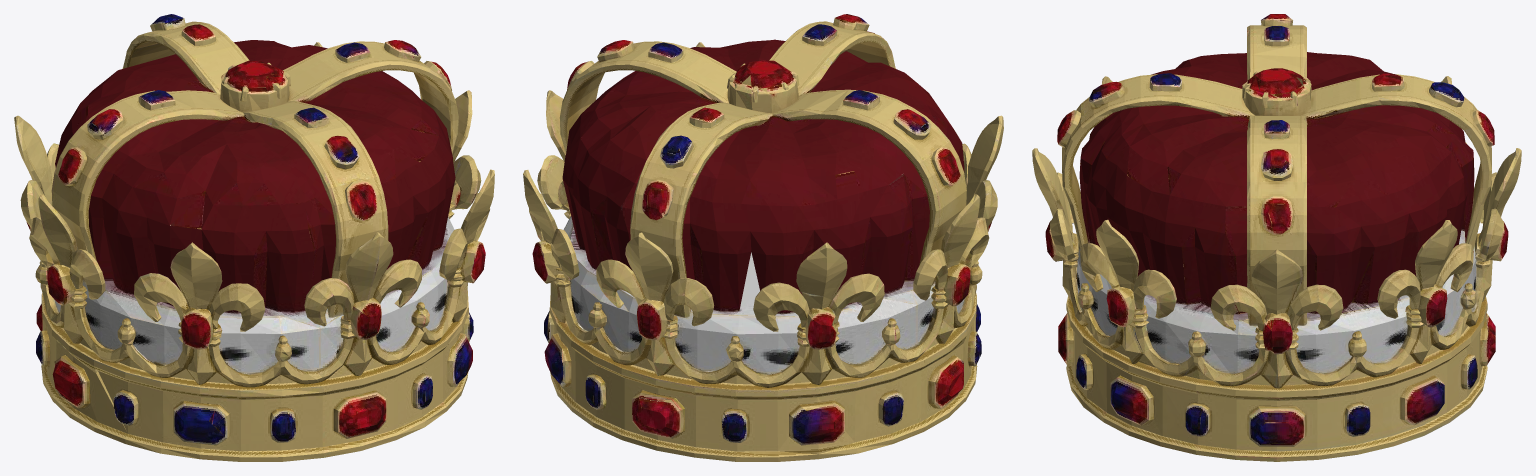
The model's file is ewm_kingcrown.glb.
3 renders of one model, left to right at view 1: azimuth 30°, elevation 25°; view 2: azimuth 150°, elevation 25°; view 3: azimuth 270°, elevation 25°, orthographic.
Parts seen in each view (by area): view 1: ewm_kingcrown; view 2: ewm_kingcrown; view 3: ewm_kingcrown.
Boxes of the visible parts, x1,y1,x2,y2 form: ewm_kingcrown: (14,14,494,461); ewm_kingcrown: (523,14,1003,461); ewm_kingcrown: (1032,14,1521,461).
Size of the model in its own units: 0.2256 by 0.1516 by 0.2256.
1 material, 1 textured.
